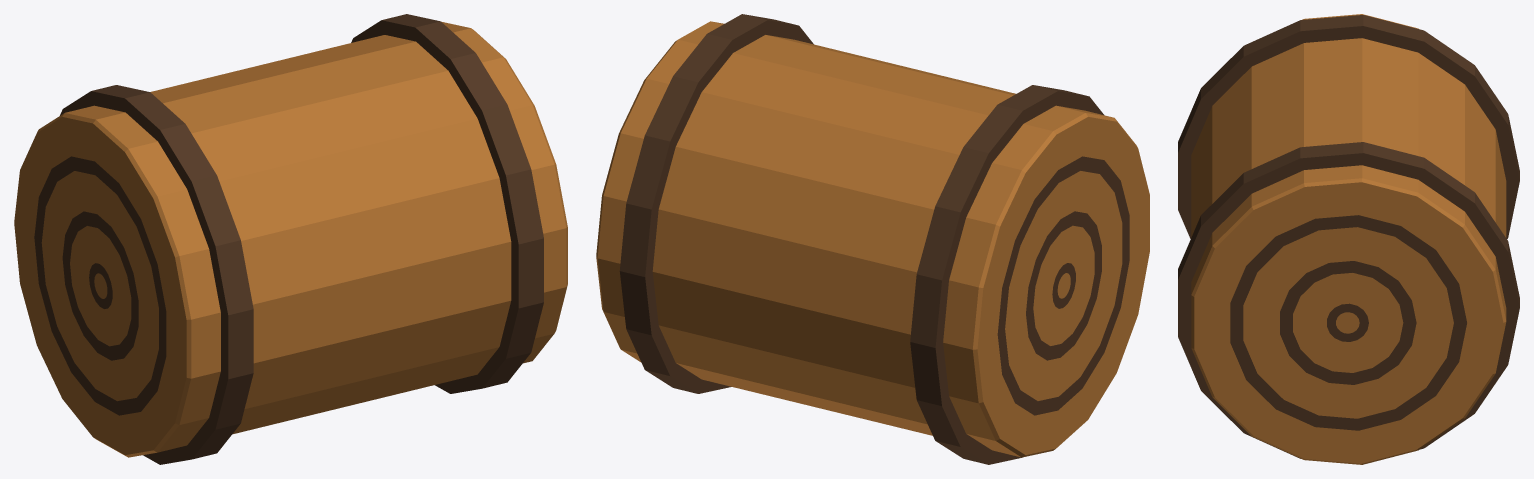
The model's file is Haystack_2.fbx.
3 views of the same model, side by side, from view 1: azimuth 30°, elevation 25°; view 2: azimuth 150°, elevation 25°; view 3: azimuth 270°, elevation 25° (orthographic). The views are drawn at different scales.
Parts seen in each view (by area): view 1: Haystack_2; view 2: Haystack_2; view 3: Haystack_2.
Part boxes in pixels (x1,y1,x2,y2): Haystack_2: (14, 14, 567, 464); Haystack_2: (596, 14, 1149, 464); Haystack_2: (1178, 14, 1519, 464).
Size of the model in its own units: 117 by 102 by 101.
